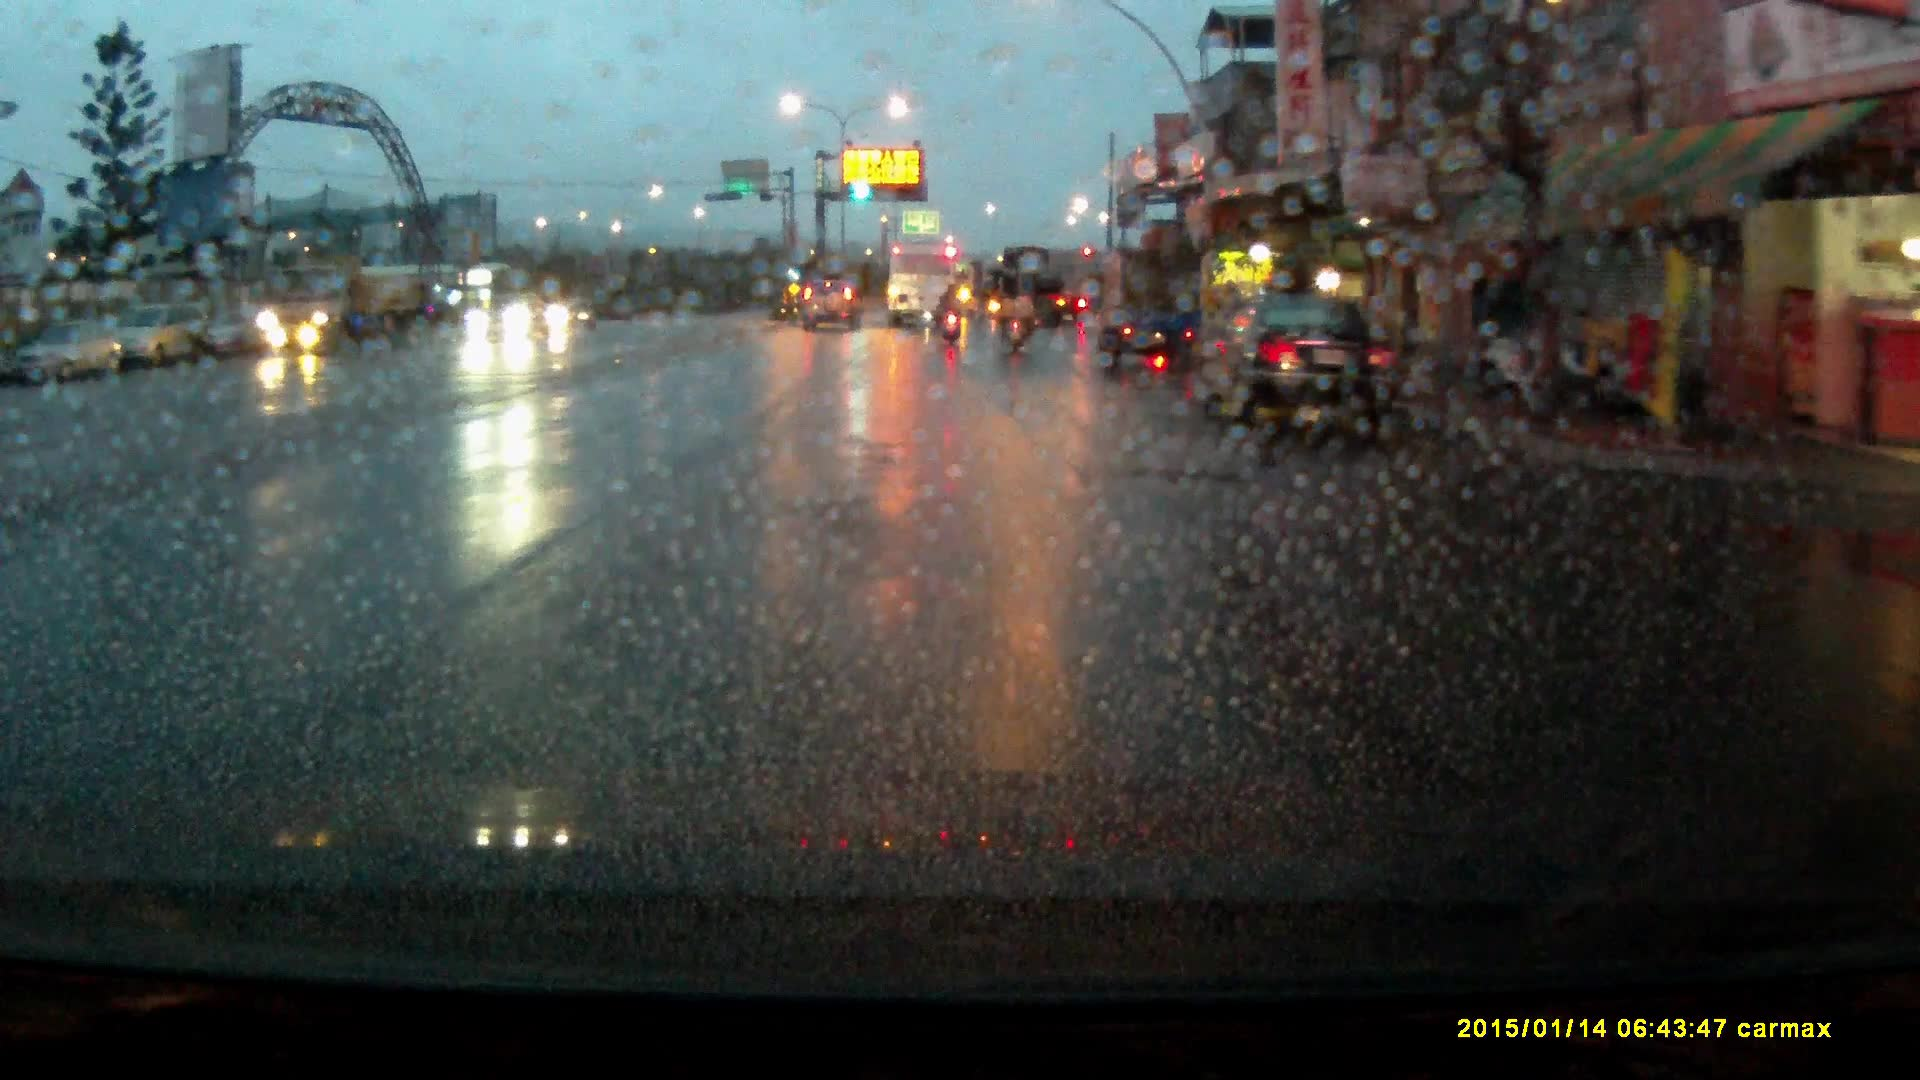rider: (995, 276, 1030, 359), (940, 281, 966, 349)
vehicle: (1195, 300, 1409, 435), (254, 260, 429, 358), (1091, 253, 1206, 369), (102, 306, 201, 374), (1001, 248, 1071, 335), (35, 323, 125, 389), (887, 248, 955, 335), (466, 299, 549, 345), (801, 278, 863, 337), (551, 297, 599, 335)
